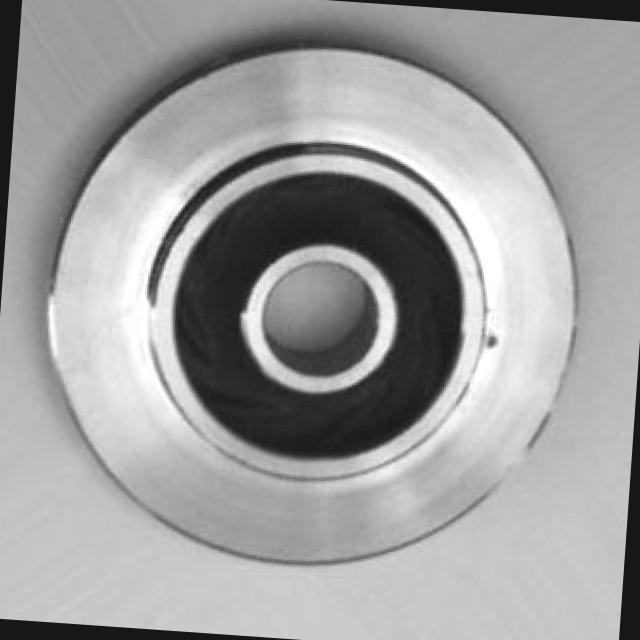Defect: (480, 324, 505, 361)
